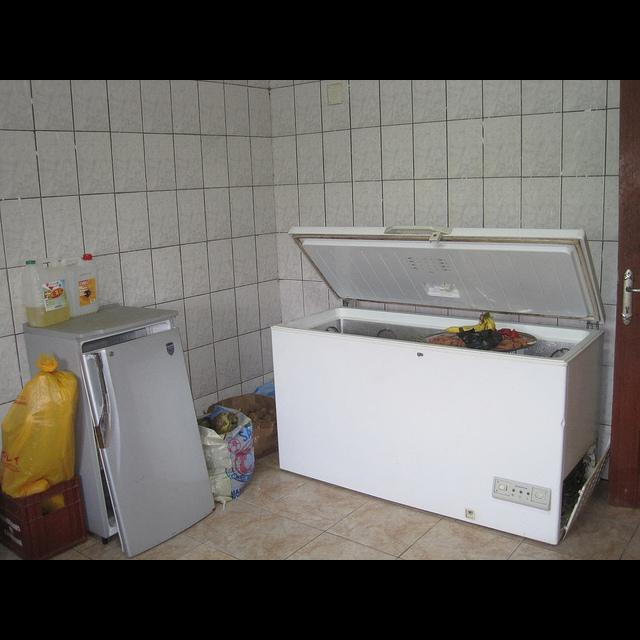Refrigerator: (271, 227, 615, 546), (25, 298, 219, 554)
